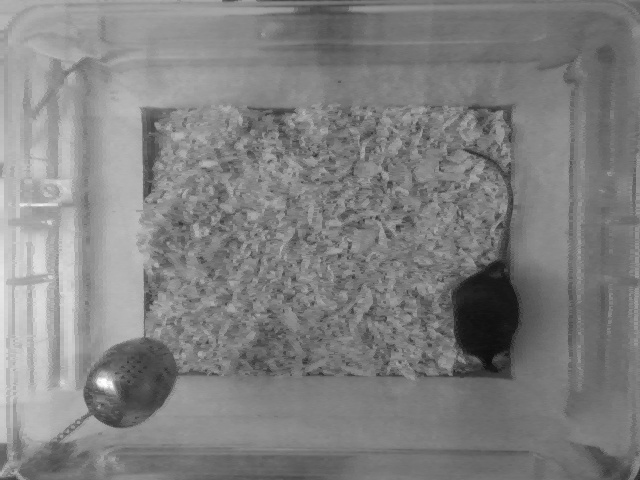mice: (451, 143, 520, 378)
